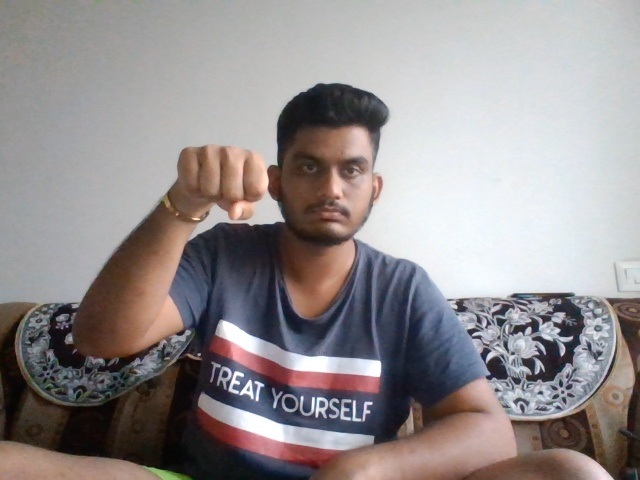Yes: (161, 140, 279, 226)
